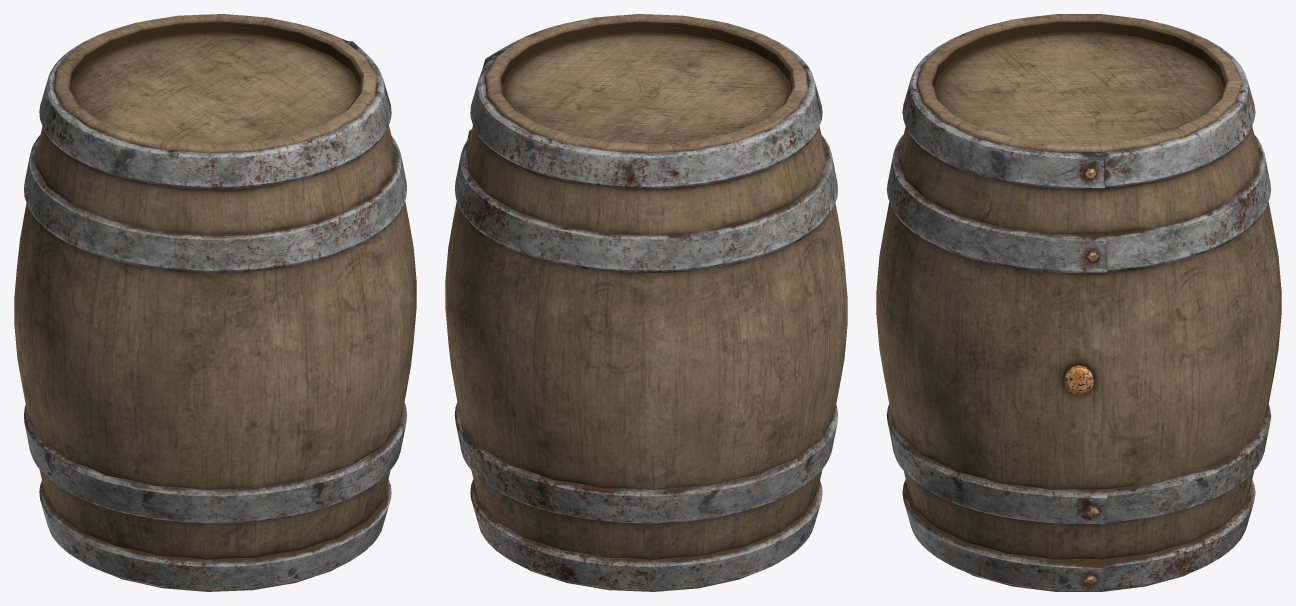
The model's file is wooden_barrel_game_ready_asset.glb.
3 views of the same model, side by side, from view 1: azimuth 30°, elevation 25°; view 2: azimuth 150°, elevation 25°; view 3: azimuth 270°, elevation 25° (orthographic).
Visible parts, largest first — view 1: Barel; view 2: Barel; view 3: Barel.
Boxes of the visible parts, box(x1,y1,x2,y2) form: Barel: box(14, 14, 416, 591); Barel: box(445, 14, 847, 591); Barel: box(876, 14, 1281, 591).
Bounding box in the file's own units: 83.81 × 100 × 82.64.
1 material, 1 textured.
